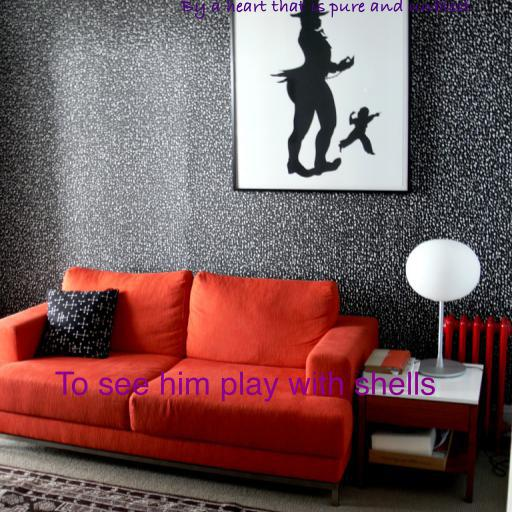Bradley Hand: (181, 0, 471, 19)
Helvetica: (54, 371, 436, 402)
